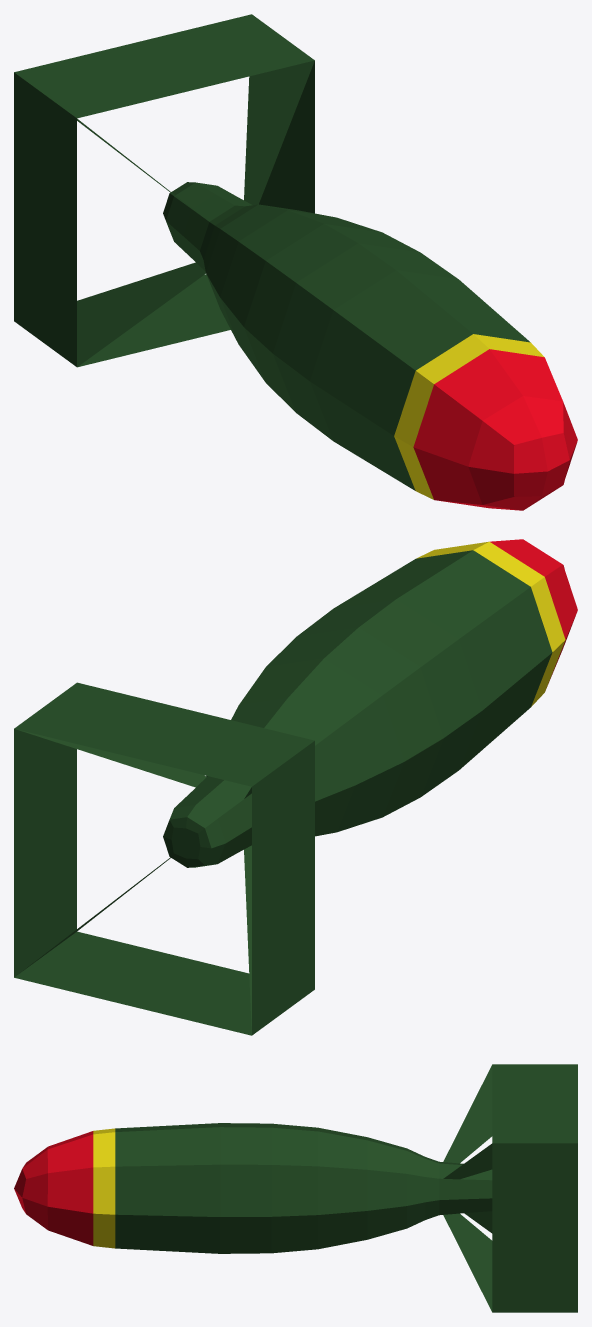
The model's file is Nuke.glb.
3 renders of one model, top to bottom at view 1: azimuth 30°, elevation 25°; view 2: azimuth 150°, elevation 25°; view 3: azimuth 270°, elevation 25°, orthographic. The views are drawn at different scales.
Parts seen in each view (by area): view 1: Cube; view 2: Cube; view 3: Cube.
Boxes of the visible parts, x1,y1,x2,y2 form: Cube: (14, 14, 577, 510); Cube: (14, 539, 577, 1035); Cube: (14, 1064, 577, 1312).
Bounding box in the file's own units: 2.53 × 2.53 × 7.63.
